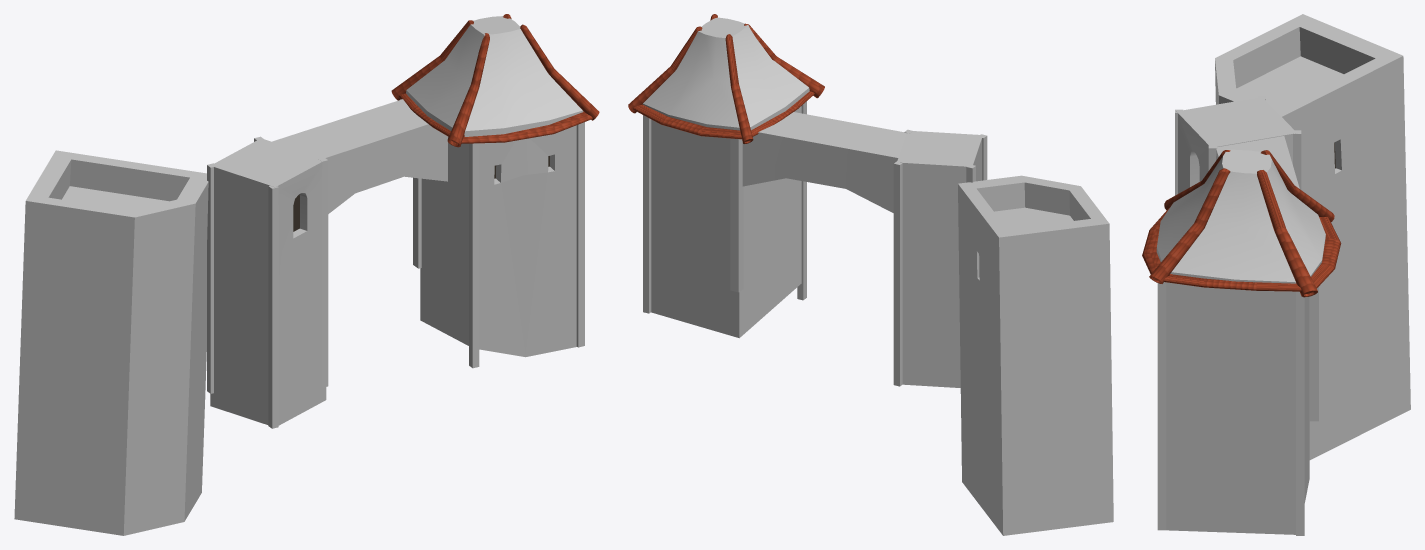
File: voorgebouwen.fbx
The picture shows the model from 3 angles, left to right: view 1: azimuth 30°, elevation 25°; view 2: azimuth 150°, elevation 25°; view 3: azimuth 270°, elevation 25°; orthographic projection. The views are drawn at different scales.
Parts seen in each view (by area): view 1: pCube5, pCube94, pCube108, pCube208, pCube212, pCube213, pCube214, pCube211, pCube216, pCylinder106, pCylinder105, pCylinder107 (+2 smaller); view 2: pCube5, pCube94, pCube108, pCube208, pCube217, pCube122, pCube215, pCylinder102, pCylinder109, pCube213, pCylinder108, pCylinder106; view 3: pCube5, pCube94, pCube208, pCube108, pCube214, pCube215, pCylinder108, pCylinder107, pCube122, pCylinder103, pCylinder102, pCylinder109 (+3 smaller).
Part boxes in pixels (left/top/right/bottom): pCube5: left=14, top=150, right=208, bottom=535; pCube94: left=272, top=99, right=576, bottom=357; pCube108: left=210, top=138, right=326, bottom=425; pCube208: left=406, top=16, right=583, bottom=136; pCube212: left=268, top=185, right=278, bottom=428; pCube213: left=469, top=143, right=479, bottom=368; pCube214: left=576, top=122, right=584, bottom=347; pCube211: left=318, top=157, right=328, bottom=387; pCube216: left=207, top=163, right=216, bottom=393; pCylinder106: left=447, top=33, right=489, bottom=147; pCylinder105: left=461, top=112, right=592, bottom=143; pCylinder107: left=520, top=24, right=599, bottom=120; pCube5: left=958, top=175, right=1113, bottom=535; pCube94: left=651, top=106, right=906, bottom=338; pCube108: left=897, top=131, right=982, bottom=387; pCube208: left=642, top=17, right=809, bottom=130; pCube217: left=893, top=161, right=902, bottom=386; pCube122: left=730, top=138, right=743, bottom=292; pCube215: left=643, top=115, right=651, bottom=313; pCylinder102: left=633, top=104, right=741, bottom=139; pCylinder109: left=725, top=34, right=753, bottom=143; pCube213: left=797, top=101, right=806, bottom=300; pCylinder108: left=628, top=26, right=702, bottom=113; pCylinder106: left=744, top=23, right=824, bottom=98; pCube5: left=1215, top=14, right=1410, bottom=459; pCube94: left=1166, top=136, right=1309, bottom=534; pCube208: left=1156, top=149, right=1325, bottom=283; pCube108: left=1176, top=97, right=1296, bottom=193; pCube214: left=1157, top=282, right=1166, bottom=530; pCube215: left=1296, top=291, right=1304, bottom=535; pCylinder108: left=1257, top=170, right=1317, bottom=297; pCylinder107: left=1149, top=168, right=1230, bottom=283; pCube122: left=1309, top=287, right=1318, bottom=421; pCylinder103: left=1163, top=274, right=1301, bottom=291; pCylinder102: left=1311, top=217, right=1341, bottom=288; pCylinder109: left=1261, top=150, right=1334, bottom=221.
Size of the model in its own units: 48.52 by 36.62 by 19.14.
